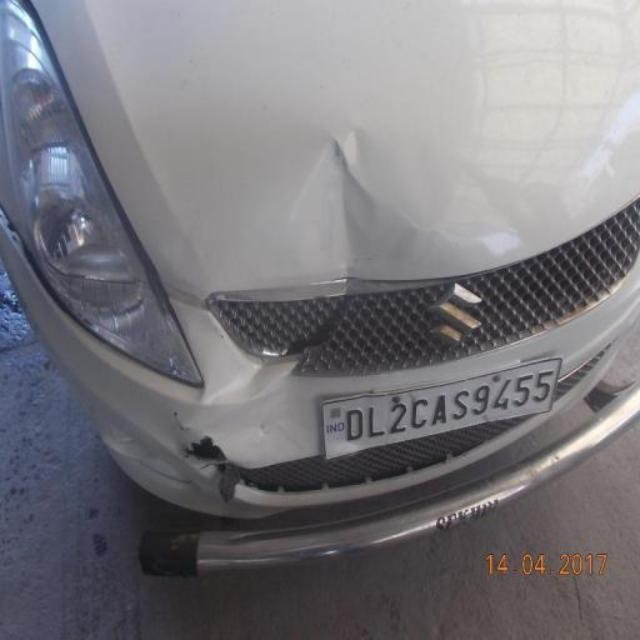crack: (276, 290, 360, 369), (213, 452, 252, 509)
dent: (252, 132, 485, 282), (204, 356, 306, 408)
no part: (180, 434, 237, 470)
